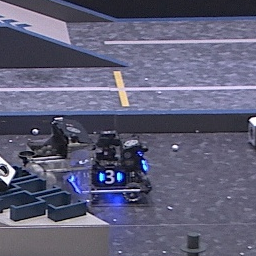Blue: (97, 170, 125, 185)
Robot: (19, 115, 96, 209), (72, 131, 153, 206)
